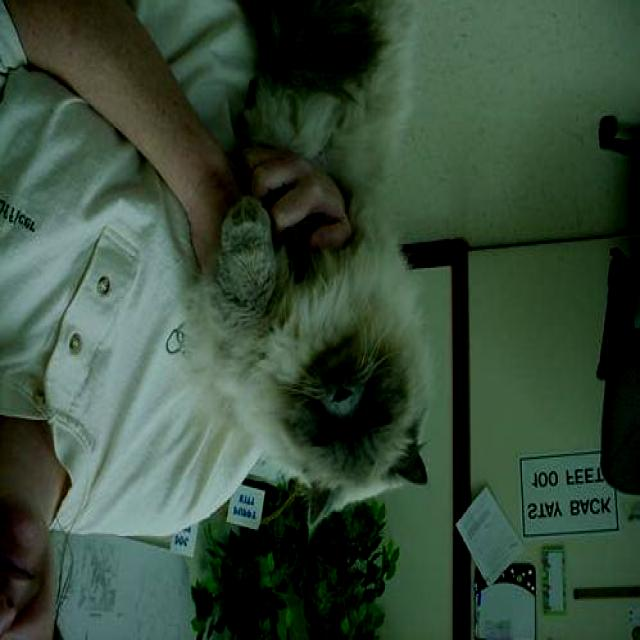Kucing: (228, 46, 443, 564)
